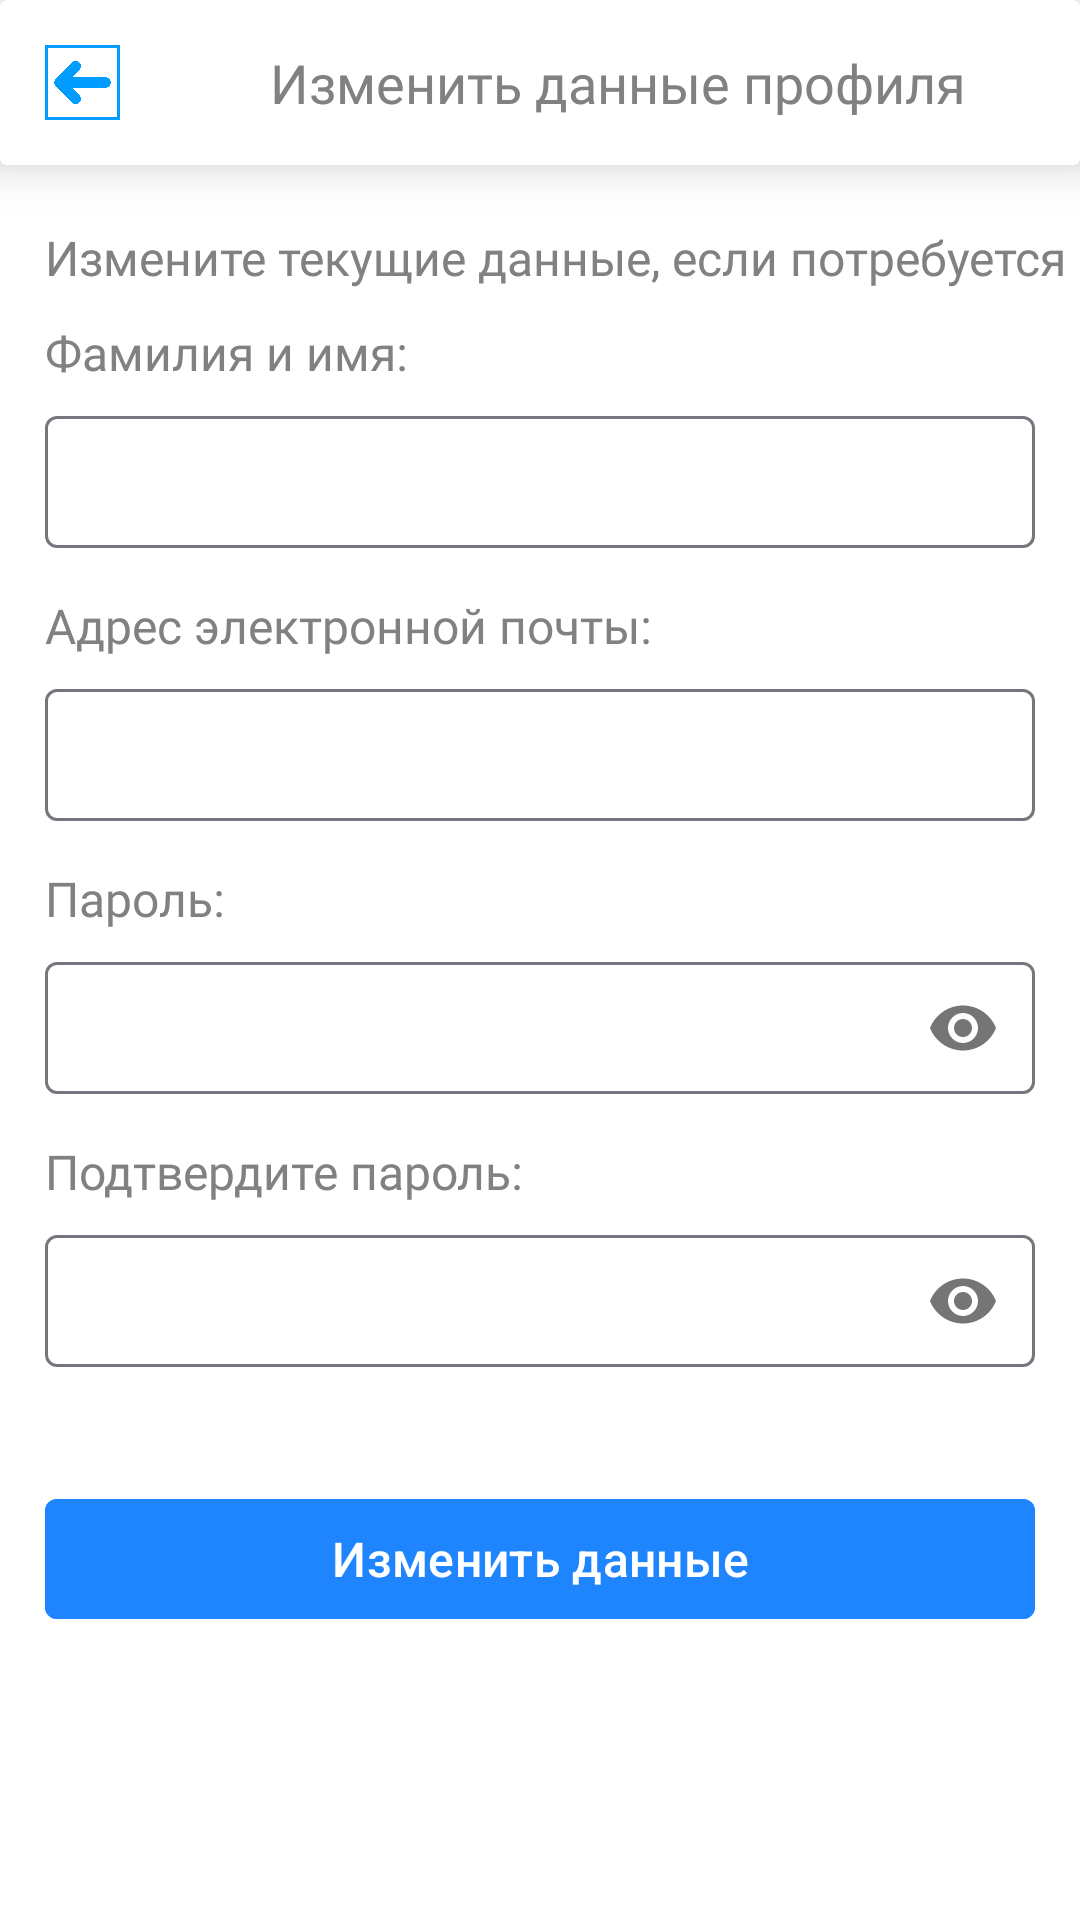

Named icons in this screenshot (1080 × 1920) and their centers, (x,y):
leftarrow: (82,82)
